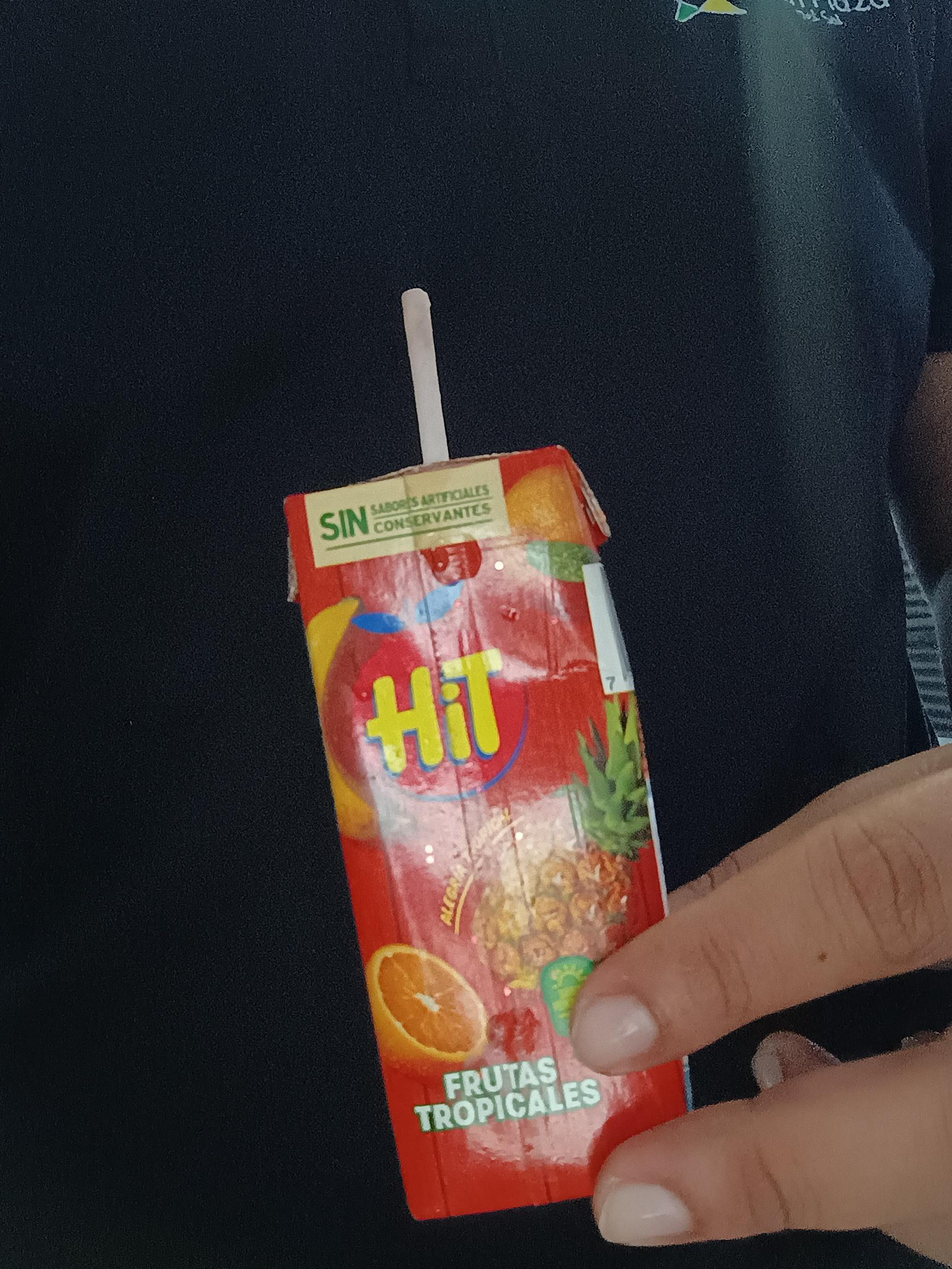Carton: (269, 446, 699, 1223)
